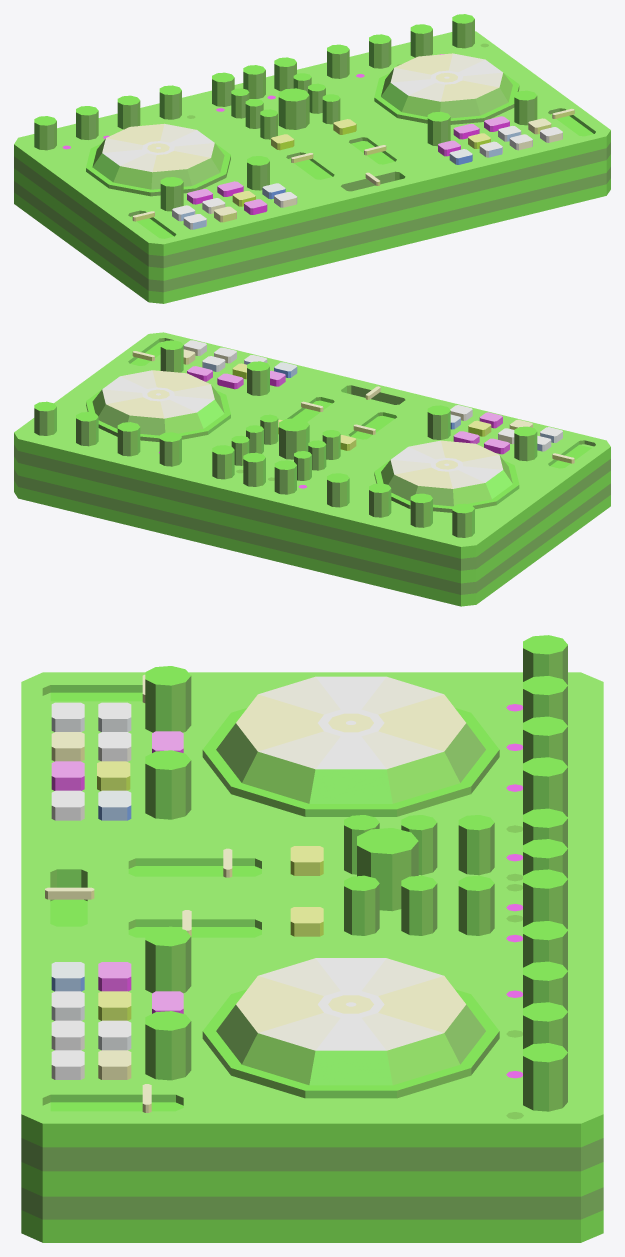
Rendered from dj_station.gltf.
The picture shows the model from 3 angles, top to bottom: view 1: azimuth 30°, elevation 25°; view 2: azimuth 150°, elevation 25°; view 3: azimuth 270°, elevation 25°; orthographic projection. The views are drawn at different scales.
Parts seen in each view (by area): view 1: Cube.240; view 2: Cube.240; view 3: Cube.240.
Boxes of the visible parts, x1,y1,x2,y2 form: Cube.240: (14,14,610,303); Cube.240: (14,332,610,606); Cube.240: (21,635,603,1242).
Bounding box in the file's own units: 5.5 × 1 × 3.
Materials: 1 (1 with a texture image).
